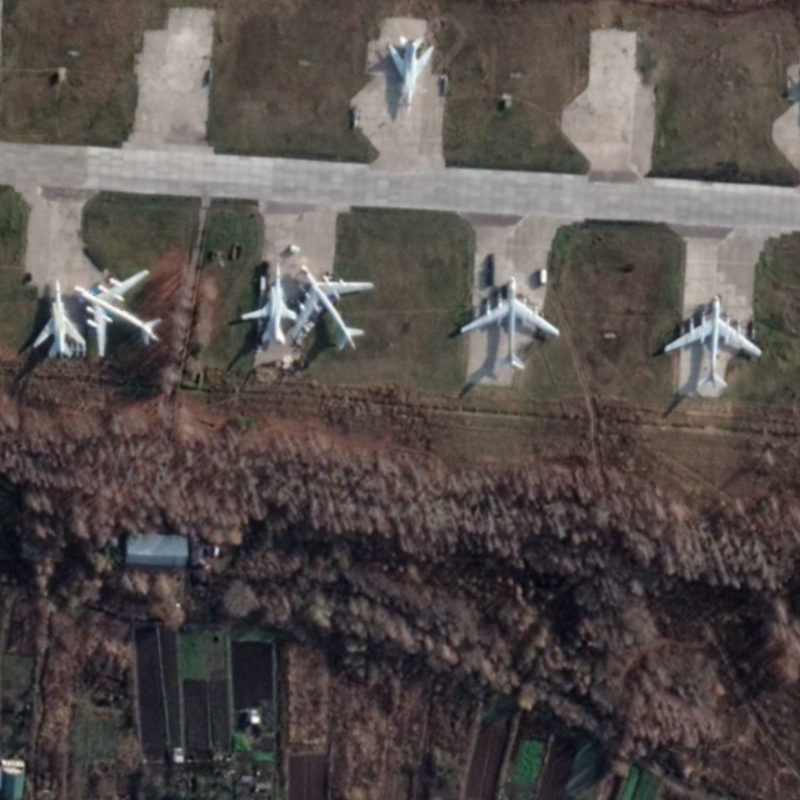A12: (28, 274, 86, 365), (237, 262, 298, 346), (385, 30, 439, 117)
A17: (454, 270, 563, 376), (657, 289, 764, 392), (284, 255, 382, 358), (72, 264, 165, 361)
